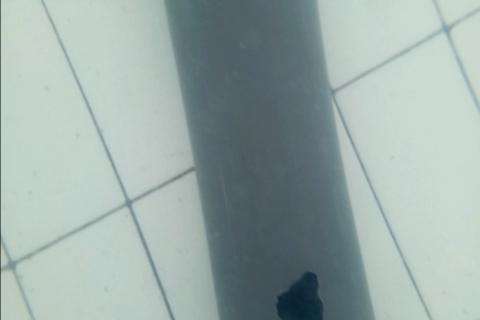kebocoran: (273, 267, 326, 320)
